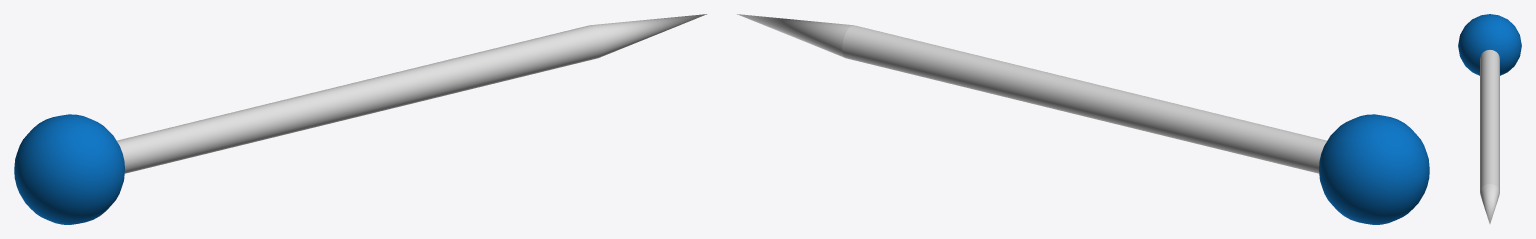
Rendered from Needle Final.fbx.
3 renders of one model, left to right at view 1: azimuth 30°, elevation 25°; view 2: azimuth 150°, elevation 25°; view 3: azimuth 270°, elevation 25°, orthographic. The views are drawn at different scales.
Visible parts, largest first — view 1: Needle; view 2: Needle; view 3: Needle.
Boxes of the visible parts, left/top/right/bottom form: Needle: left=14, top=14, right=706, bottom=224; Needle: left=737, top=14, right=1429, bottom=224; Needle: left=1458, top=14, right=1521, bottom=223.
Size of the model in its own units: 2.99 by 0.4192 by 0.4192.
